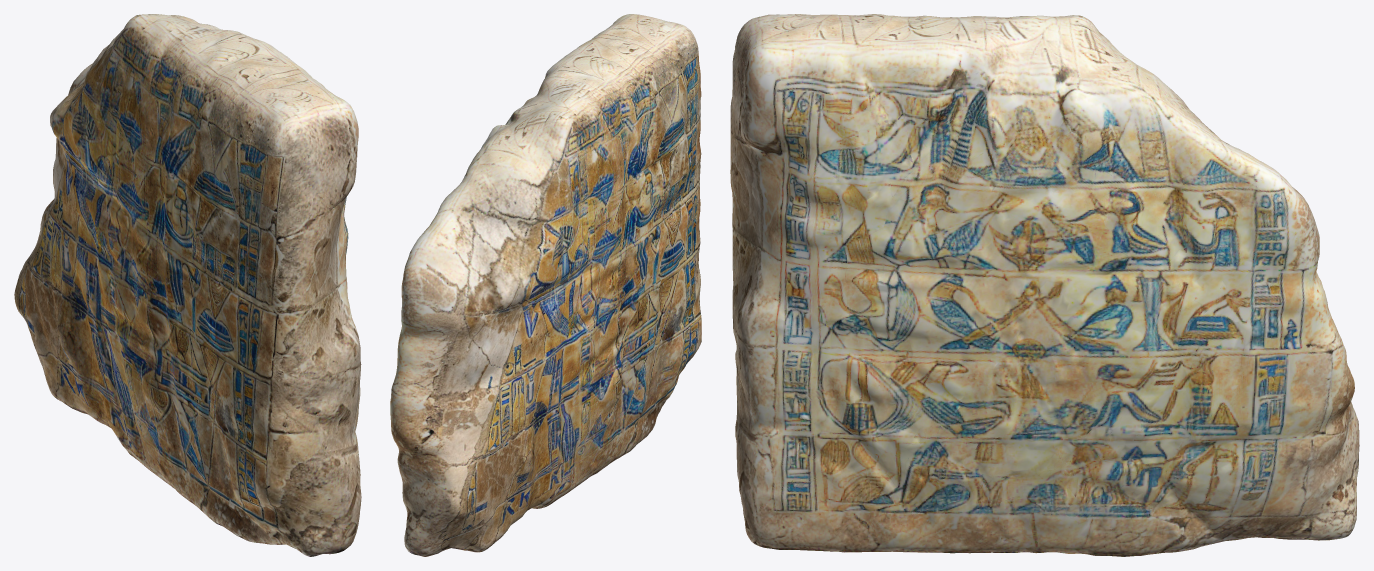
The picture shows the model from 3 angles, left to right: view 1: azimuth 30°, elevation 25°; view 2: azimuth 150°, elevation 25°; view 3: azimuth 270°, elevation 25°; orthographic projection. The views are drawn at different scales.
Visible parts, largest first — view 1: Mesh_0; view 2: Mesh_0; view 3: Mesh_0.
Part boxes in pixels (x1,y1,x2,y2): Mesh_0: (14, 14, 361, 556); Mesh_0: (390, 14, 701, 556); Mesh_0: (730, 14, 1359, 556).
Bounding box in the file's own units: 33.51 × 109 × 120.
Materials: 1 (1 with a texture image).
